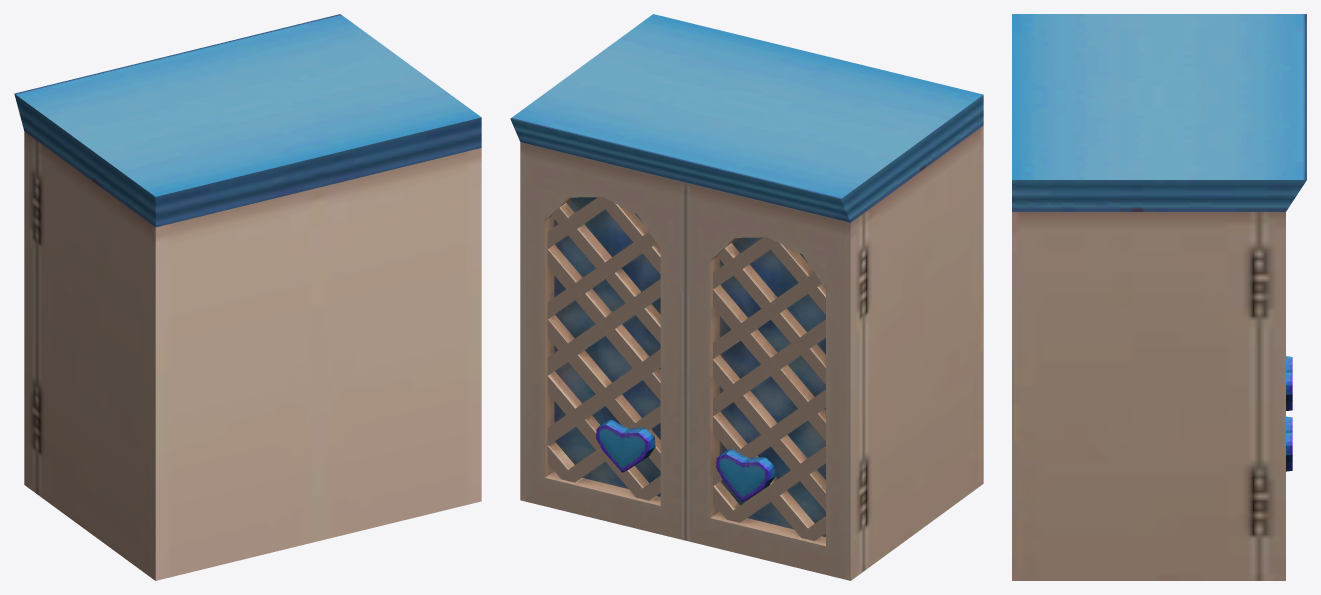
Rendered from furni_0200017_03.FBX.
3 renders of one model, left to right at view 1: azimuth 30°, elevation 25°; view 2: azimuth 150°, elevation 25°; view 3: azimuth 270°, elevation 25°, orthographic. The views are drawn at different scales.
Visible parts, largest first — view 1: furni_0200017_03; view 2: furni_0200017_03; view 3: furni_0200017_03.
Part boxes in pixels (left/top/right/bottom): furni_0200017_03: left=14, top=14, right=481, bottom=580; furni_0200017_03: left=510, top=14, right=983, bottom=580; furni_0200017_03: left=1012, top=14, right=1306, bottom=580.
Size of the model in its own units: 80 by 90 by 60.
1 material, 1 textured.
